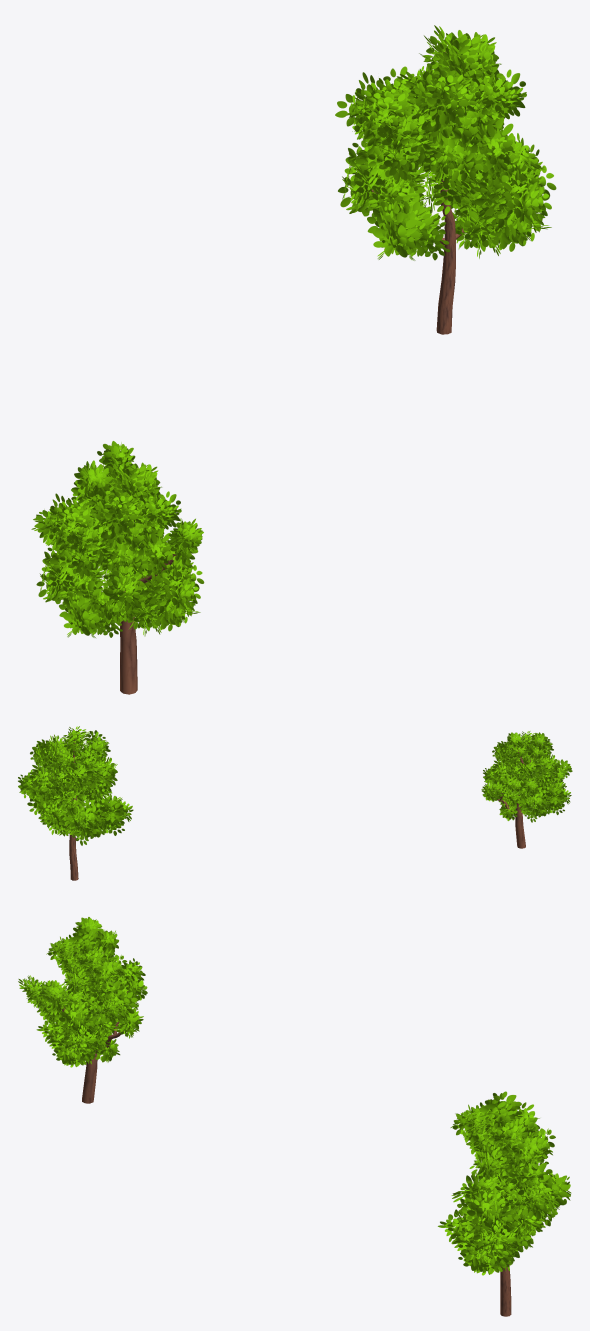
The model's file is trees.glb.
3 renders of one model, top to bottom at view 1: azimuth 30°, elevation 25°; view 2: azimuth 150°, elevation 25°; view 3: azimuth 270°, elevation 25°, orthographic. The views are drawn at different scales.
Visible parts, largest first — view 1: Leaves_Tall, Leaves_Small, Trunk_Tall, Trunk_Small; view 2: Leaves_Tall, Leaves_Small, Trunk_Small, Trunk_Tall; view 3: Leaves_Tall, Leaves_Small, Trunk_Small, Trunk_Tall.
Boxes of the visible parts, x1,y1,x2,y2 form: Leaves_Tall: [335, 25, 556, 260]; Leaves_Small: [31, 441, 204, 637]; Trunk_Tall: [371, 51, 464, 334]; Trunk_Small: [90, 497, 176, 694]; Leaves_Tall: [18, 726, 133, 845]; Leaves_Small: [481, 731, 572, 822]; Trunk_Small: [497, 749, 533, 848]; Trunk_Tall: [66, 740, 90, 880]; Leaves_Tall: [438, 1091, 571, 1275]; Leaves_Small: [18, 917, 147, 1067]; Trunk_Small: [61, 952, 132, 1103]; Trunk_Tall: [500, 1195, 529, 1316].
Size of the model in its own units: 21.53 by 8.17 by 18.19.
Materials: 3 (3 with a texture image).
